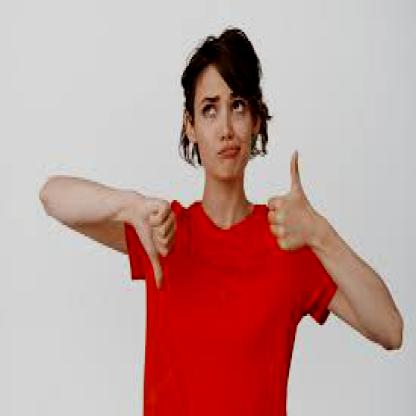Thumbs Down: (119, 187, 178, 290)
Thumbs up: (271, 138, 311, 271)
